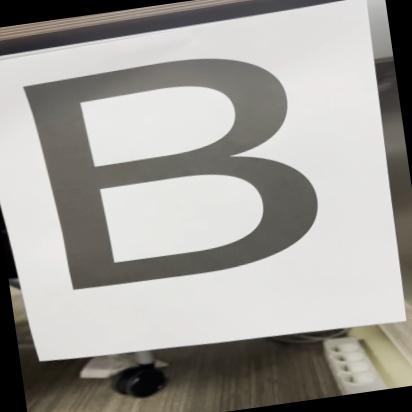seat: (0, 28, 355, 318)
